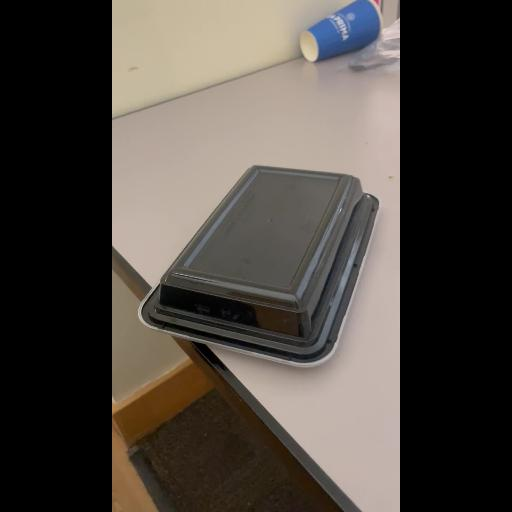rigid_plastic_container: (128, 156, 382, 380)
